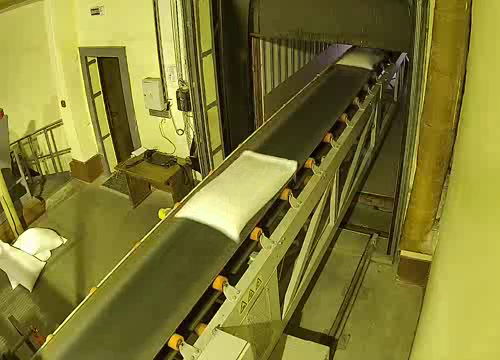bag: (174, 148, 303, 244), (338, 44, 386, 71)
